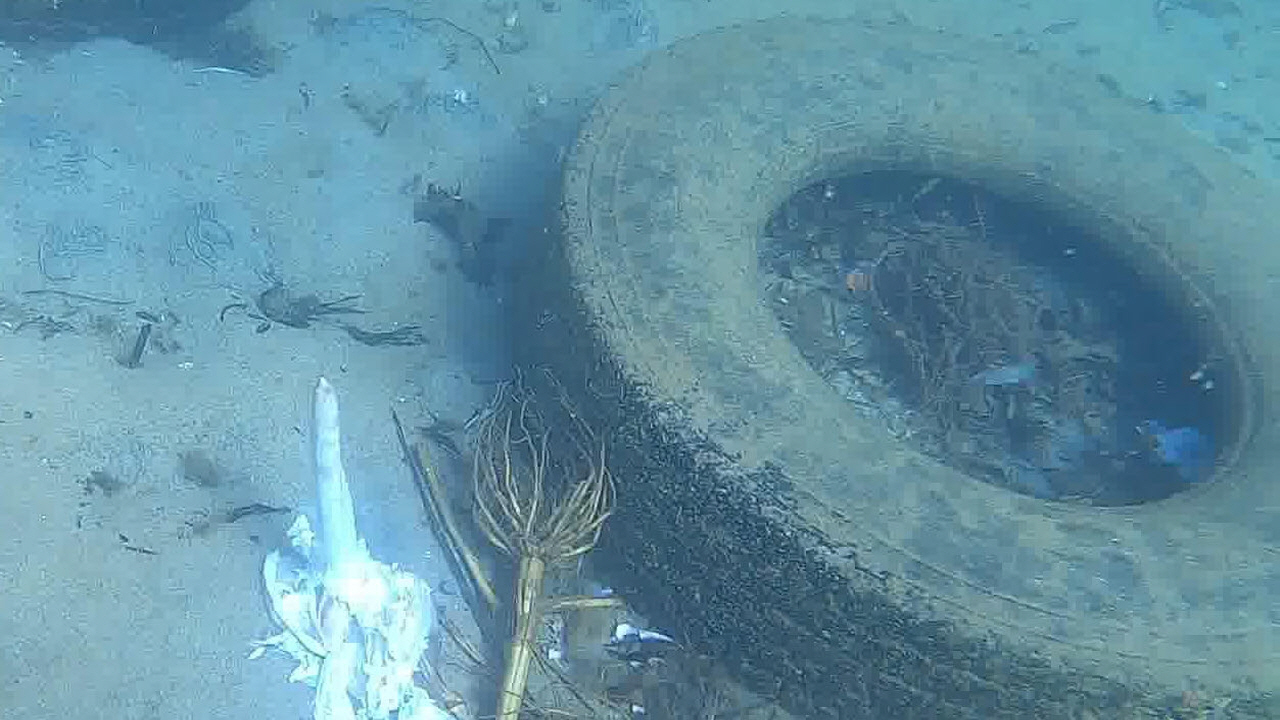tire: (532, 17, 1280, 720)
